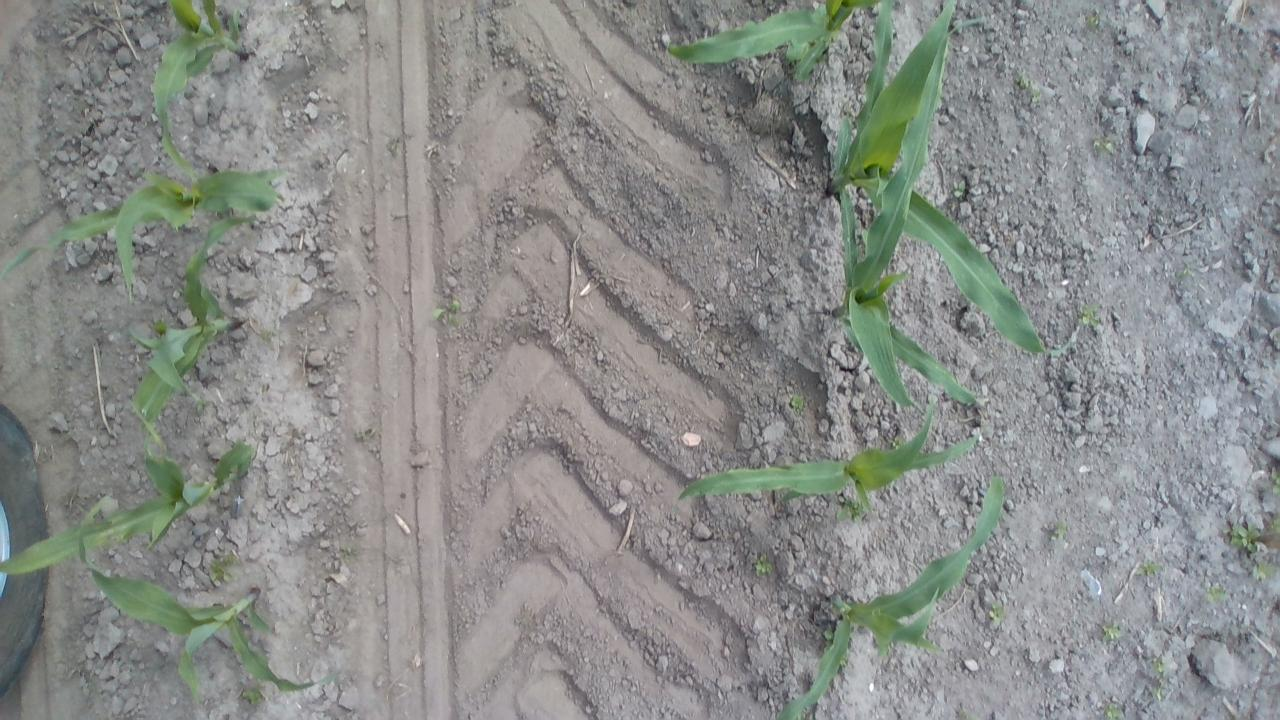Maize: (837, 0, 1082, 356), (834, 17, 994, 426), (767, 471, 1006, 720), (75, 494, 328, 708), (1, 424, 261, 582), (0, 163, 287, 298), (125, 214, 274, 450), (674, 395, 981, 508), (149, 0, 253, 181), (662, 0, 880, 83)
Weeds: (203, 548, 240, 588), (430, 298, 468, 332), (1226, 520, 1260, 554), (834, 494, 869, 526), (1200, 579, 1236, 609), (241, 680, 273, 710), (351, 428, 386, 453), (1042, 516, 1072, 544), (1155, 657, 1173, 703), (1246, 556, 1274, 584), (1092, 132, 1114, 166), (1078, 303, 1104, 329), (341, 542, 364, 569), (1134, 558, 1164, 578), (148, 316, 170, 342), (986, 603, 1008, 629), (1267, 464, 1280, 505), (1100, 620, 1122, 642), (820, 629, 839, 653), (837, 652, 855, 677), (1173, 264, 1195, 284), (751, 556, 772, 576), (958, 708, 992, 720), (952, 180, 972, 200), (1026, 90, 1044, 110), (1014, 71, 1032, 90), (1088, 6, 1106, 25), (890, 432, 908, 450), (1104, 703, 1124, 718), (790, 392, 805, 410), (1268, 515, 1280, 537)
